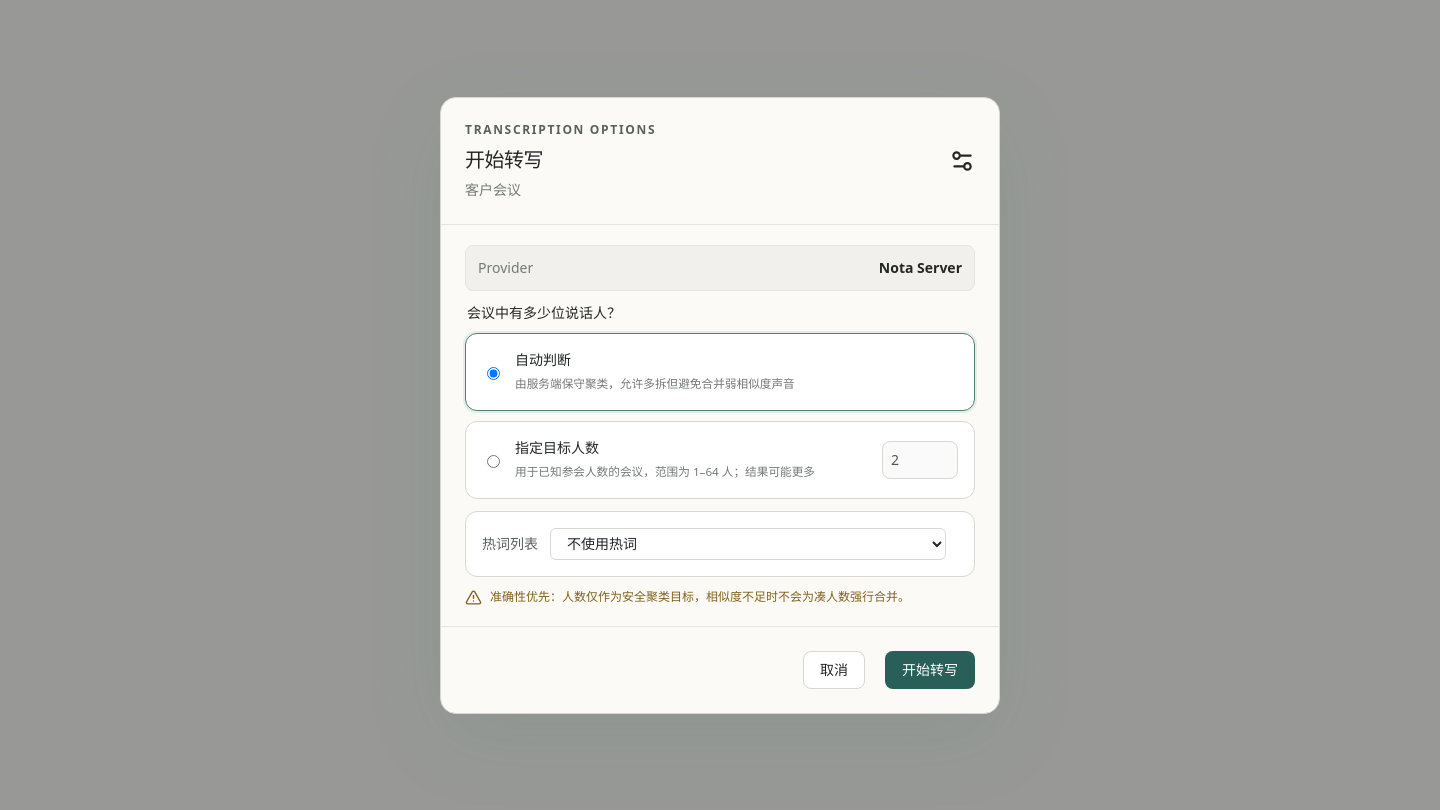
Test: TranscriptionOptionsModal › explains that Nota Server ignores custom weights
Select "产品词（2 个词）" in the dropdown: coordinates (748, 544) [550,528,946,560]
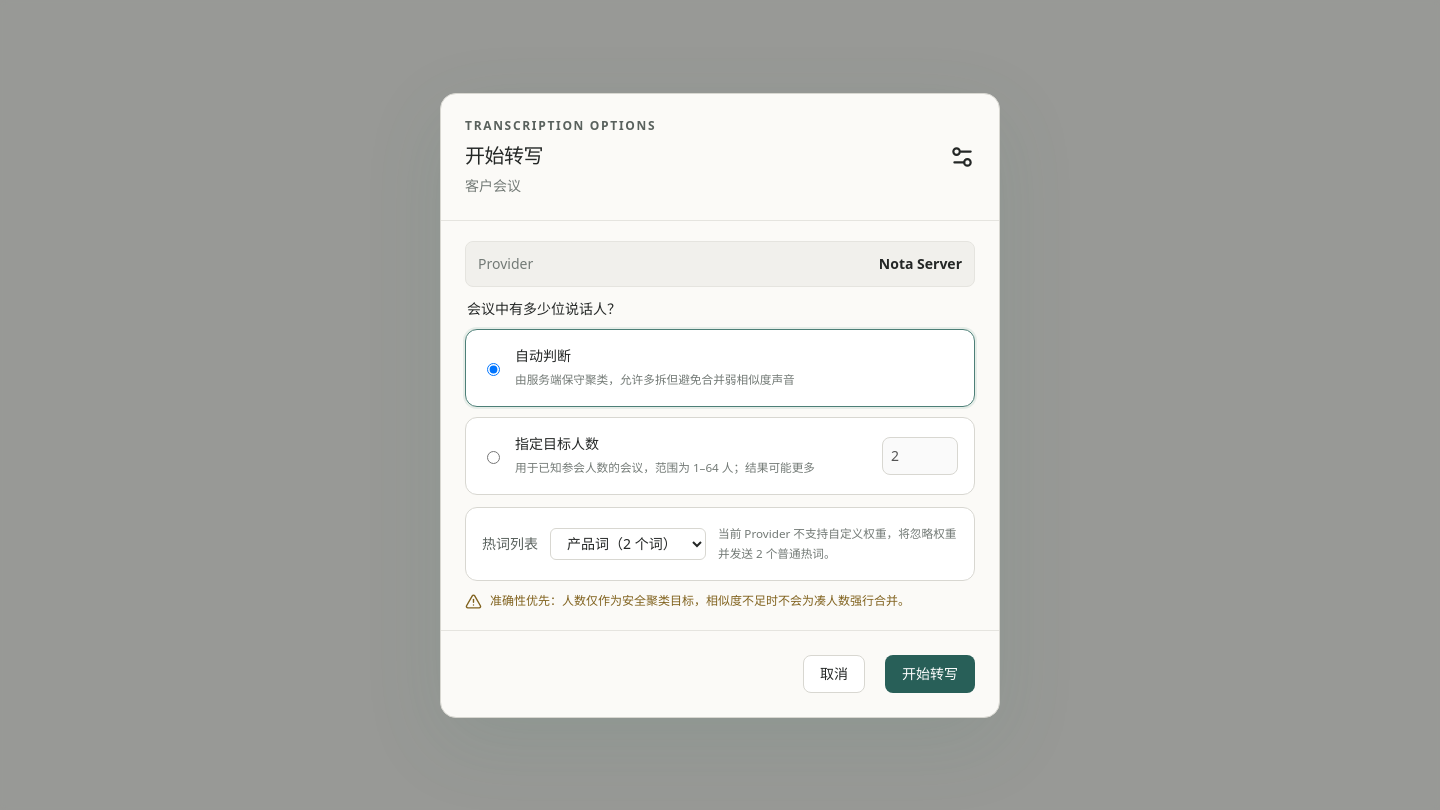
Now the text "当前 Provider 不支持自定义权重，将忽略权重并发送 2 个普通热词。" is shown, box [718,524,958,564]
